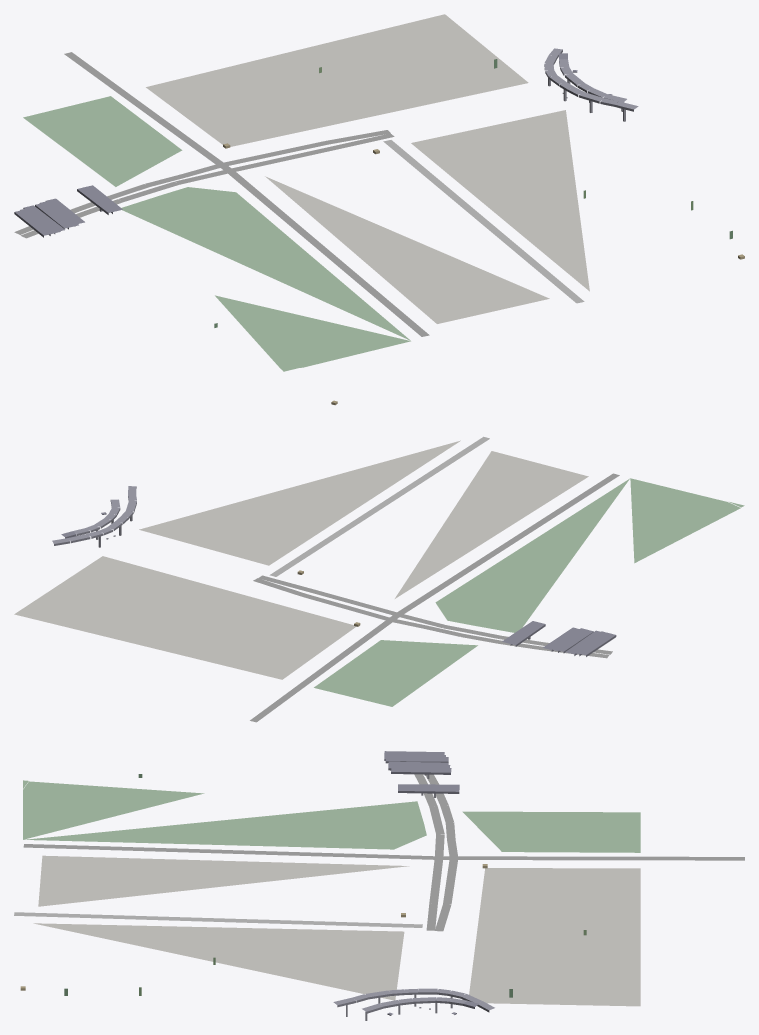
3 views of the same model, one above another, from view 1: azimuth 30°, elevation 25°; view 2: azimuth 150°, elevation 25°; view 3: azimuth 270°, elevation 25° (orthographic). The views are drawn at different scales.
Bounding box in the file's own units: 515 × 15.27 × 592.
